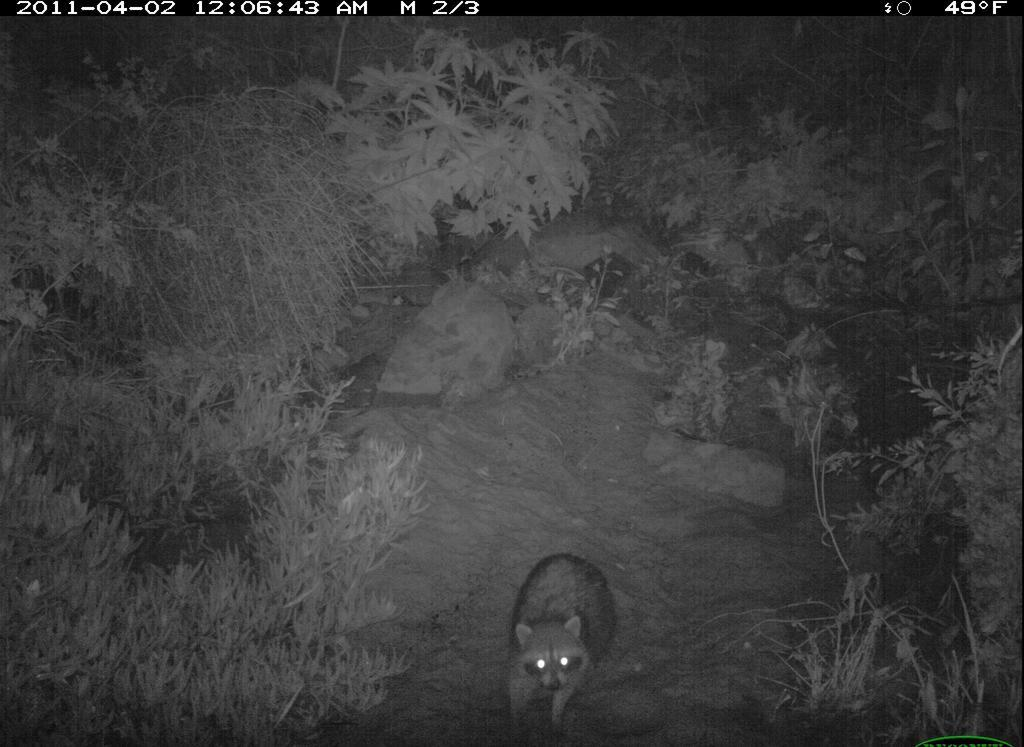raccoon: (492, 532, 633, 745)
